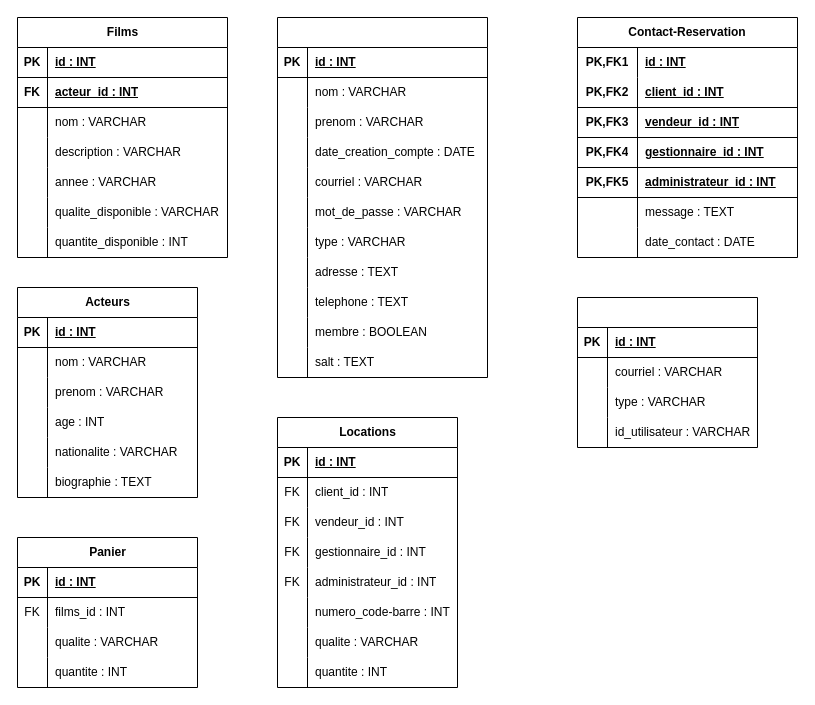
The diagram is 815 pixels wide and 705 high, and some of its shapes have lost their labels. The box of each missing label's shape, as (x1, y1, x2, y2) in pixels:
Roles: (576, 296, 758, 448)
Utilisateurs: (276, 16, 488, 378)
